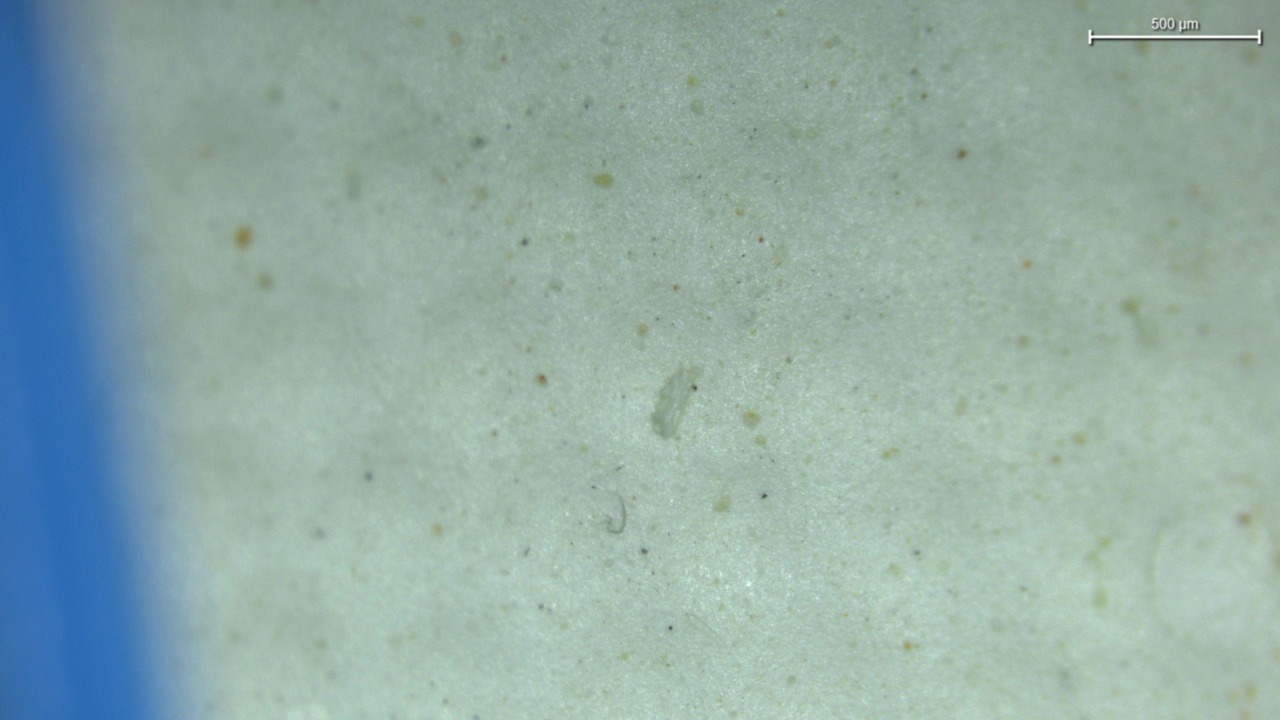microplastic_fragment: (651, 366, 701, 438)
